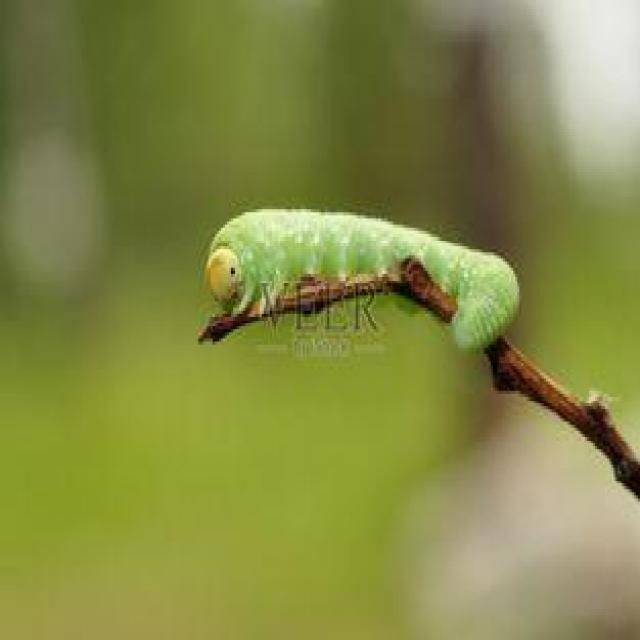armyworm: (207, 208, 533, 360)
